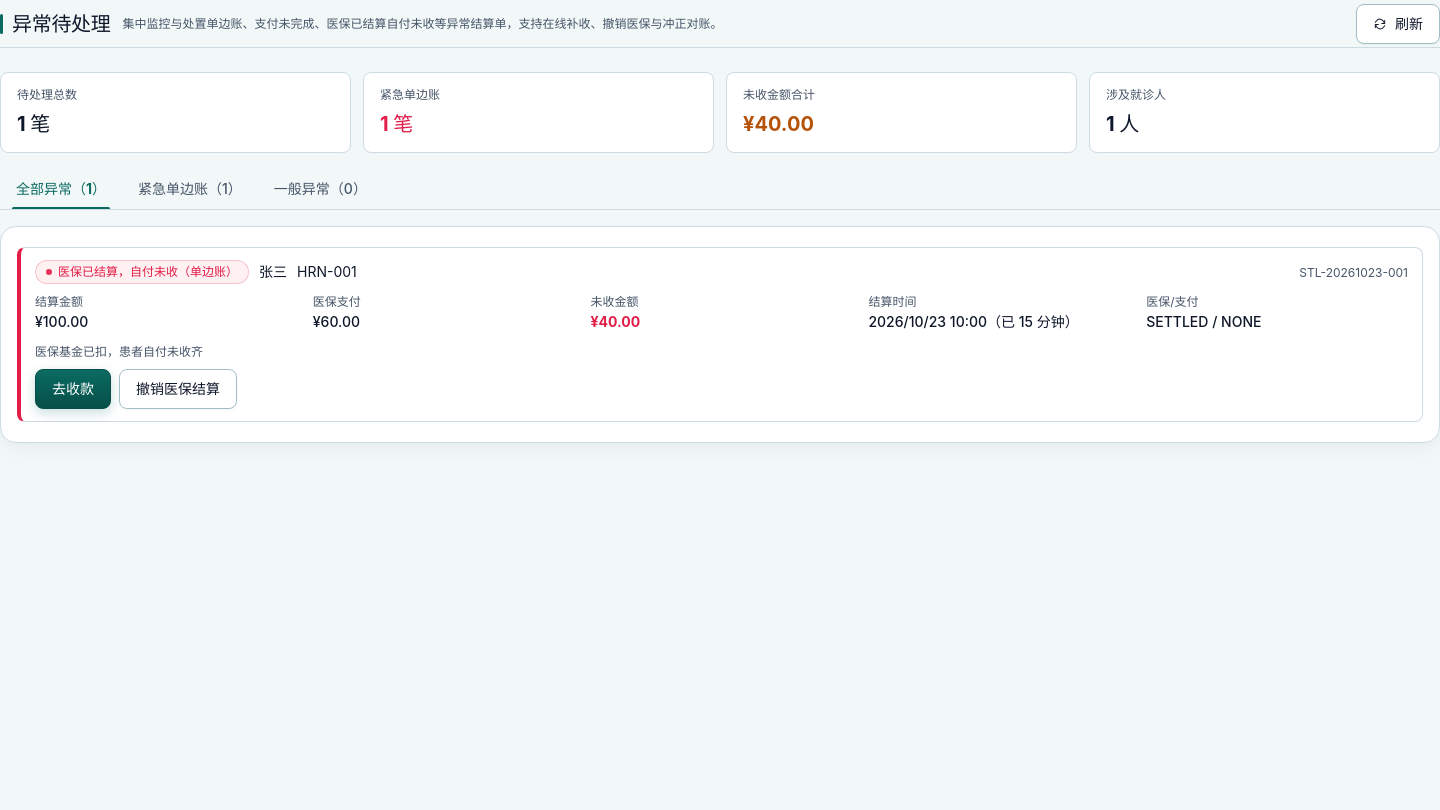
Test case: SettlementExceptionWorkspace › opens confirmation dialog and reverses insurance on 撤销医保结算
This screenshot has width=1440, height=810.
Click the button "撤销医保结算": (178,389) [119,369,237,409]
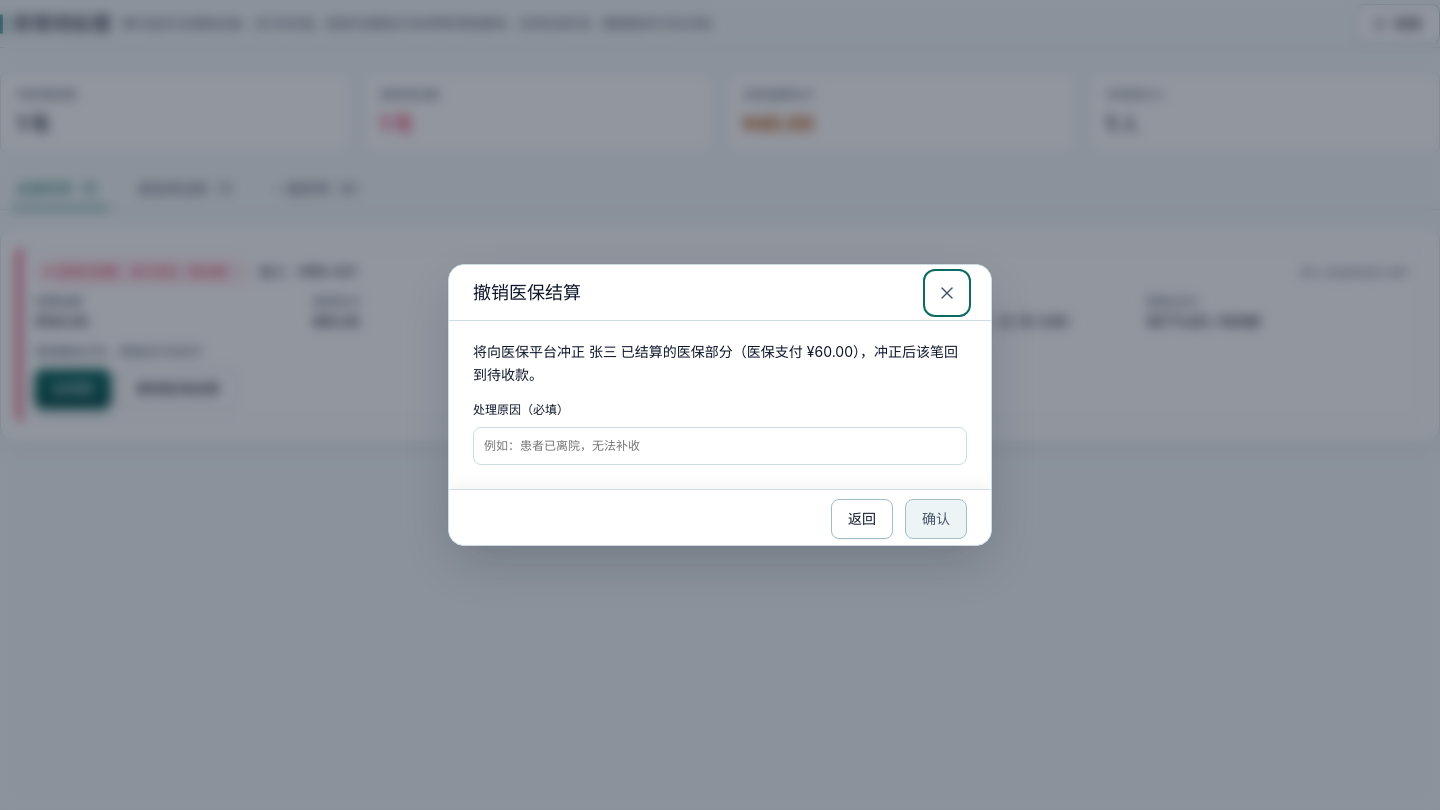
Expected: the heading "撤销医保结算" is shown, [473,279,581,306]
In the field with placeholder "例如：患者已离院，无法补收": (720,446) [473,427,967,465], type "患者未补齐自付已离开"
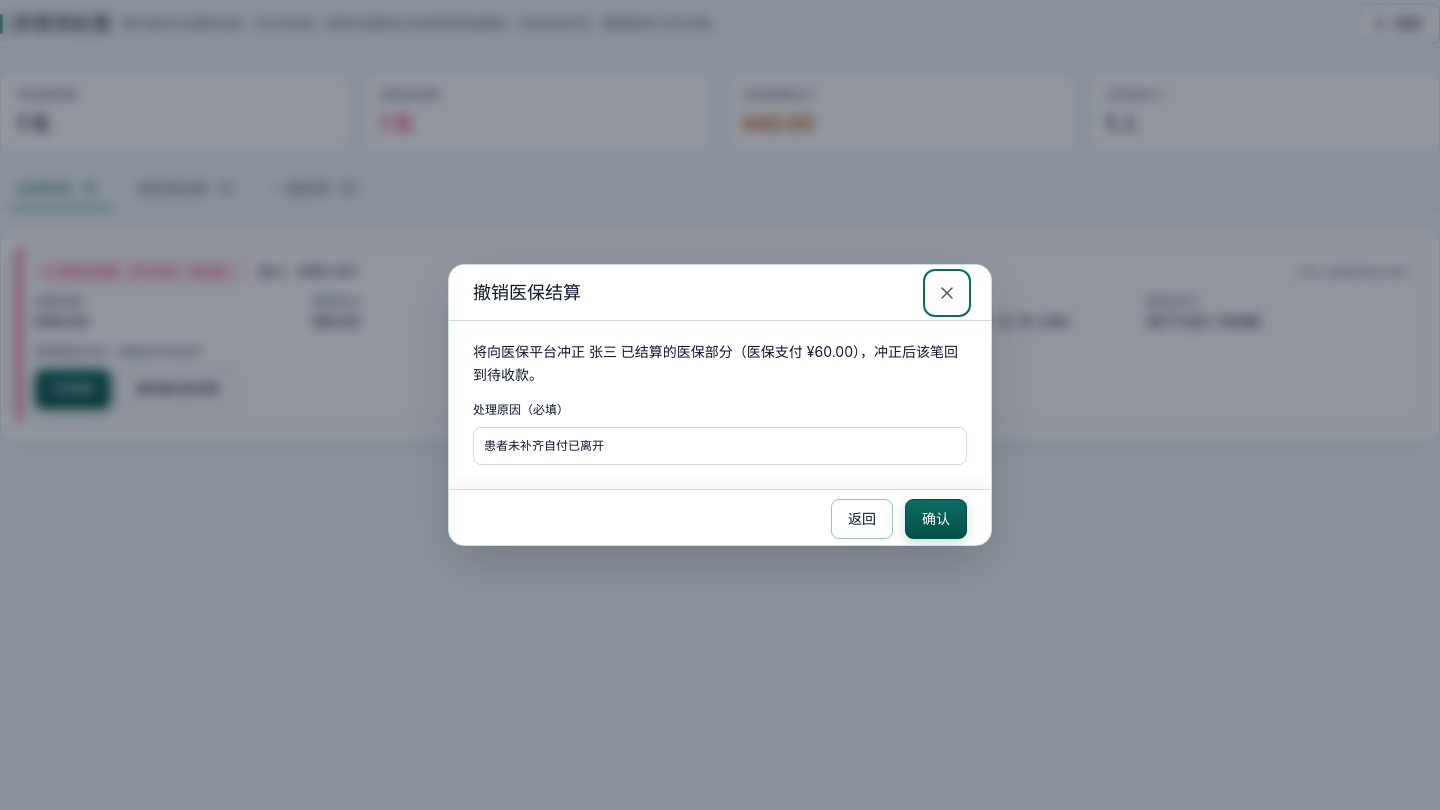
Click the button "确认": (936,519) [905,499,967,539]
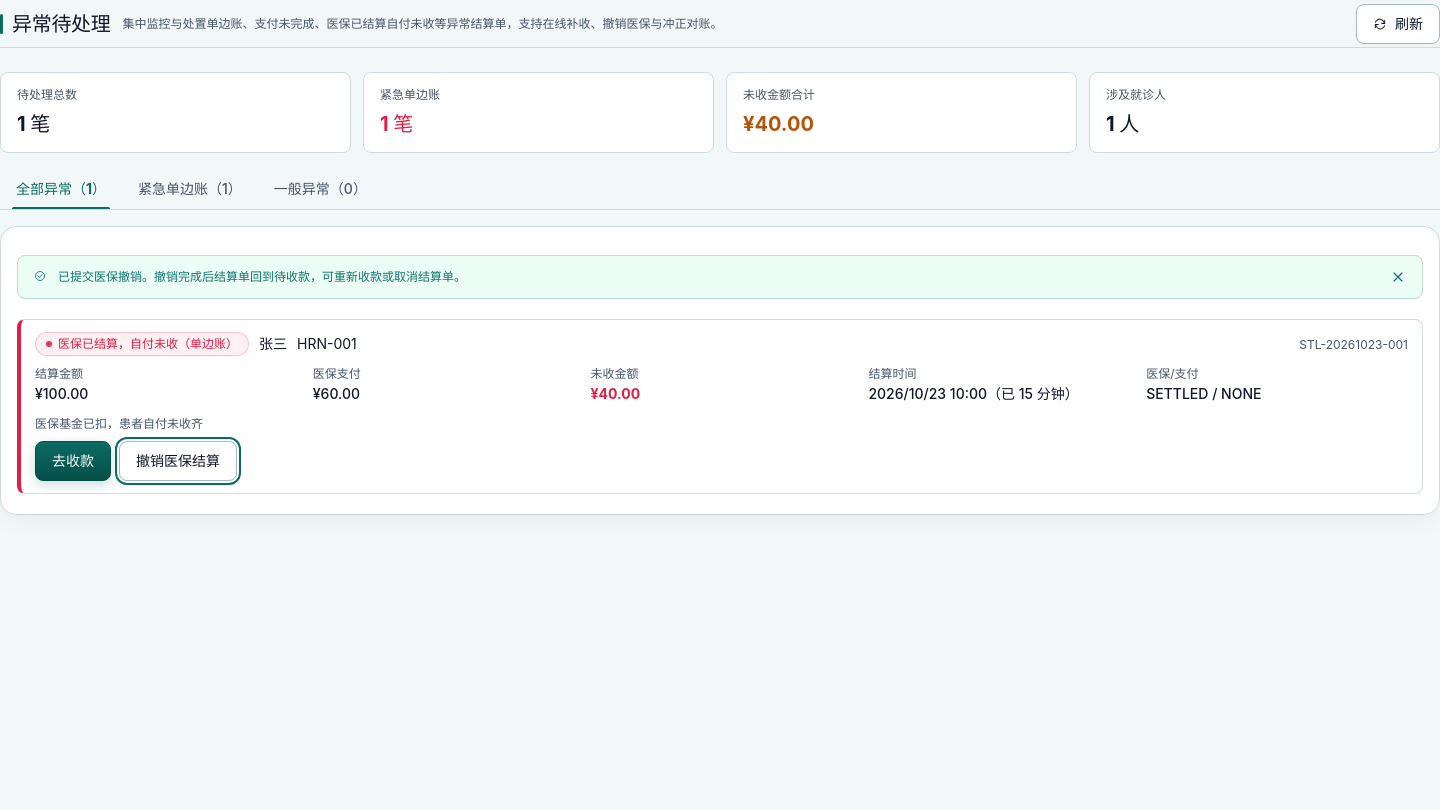
Expected: the text "已提交医保撤销。撤销完成后结算单回到待收款，可重新收款或取消结算单。" is shown, [58,269,466,284]
